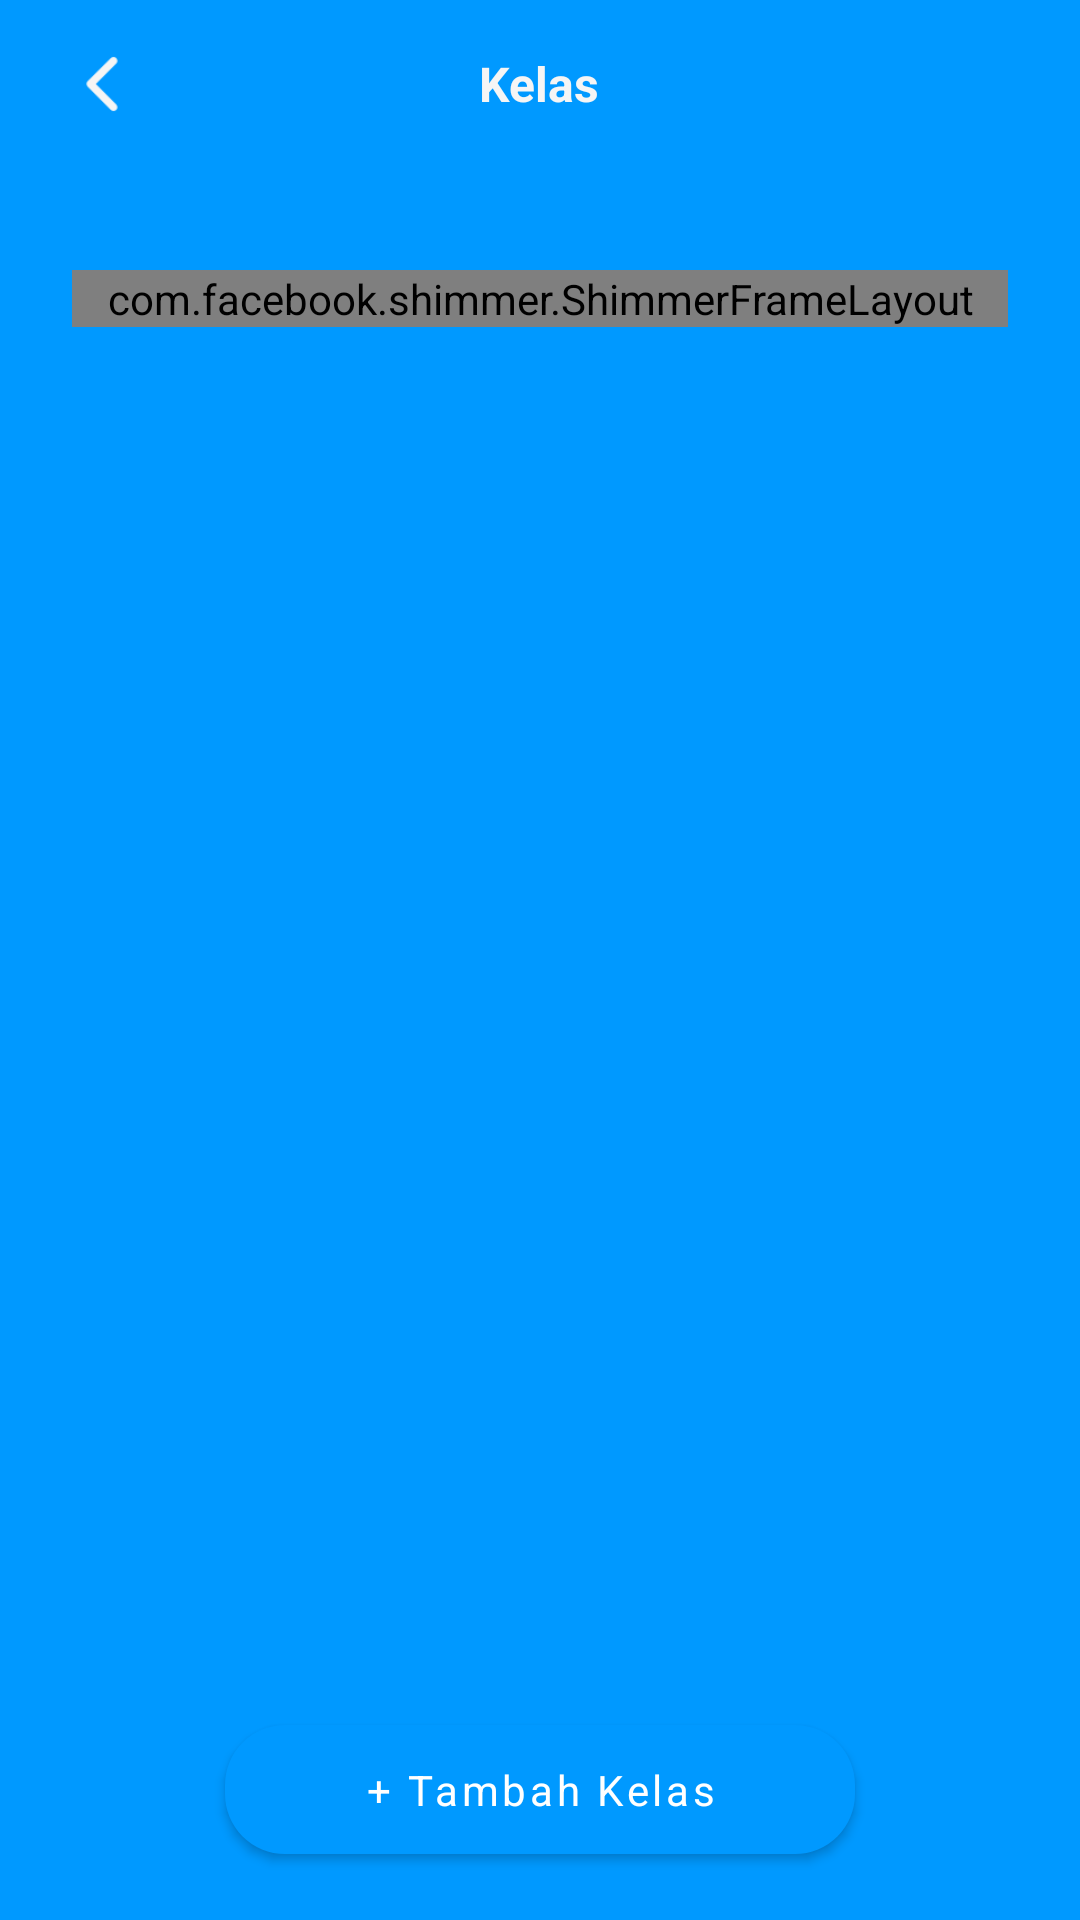

Point at icon controls on the screen. Image size 1080px×1920px, points as (x=x, y=y).
arrow back: (x=102, y=84)
